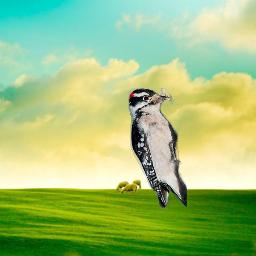Woodpecker: (128, 88, 187, 209)
